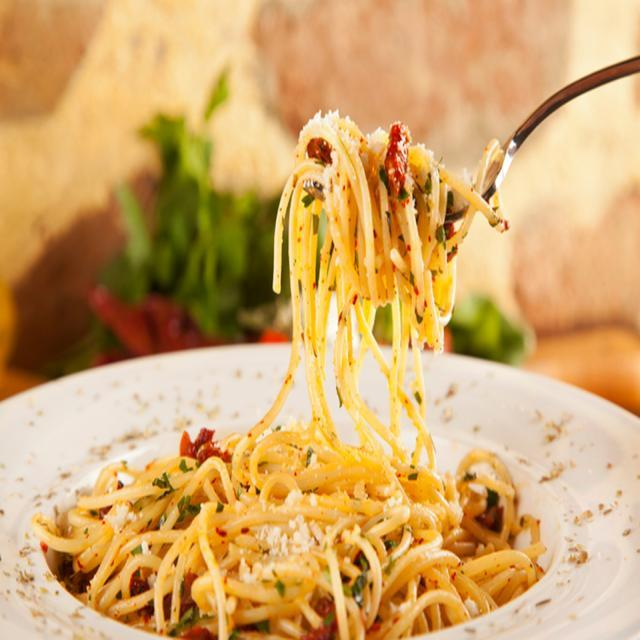Oil pasta: (62, 89, 512, 640)
